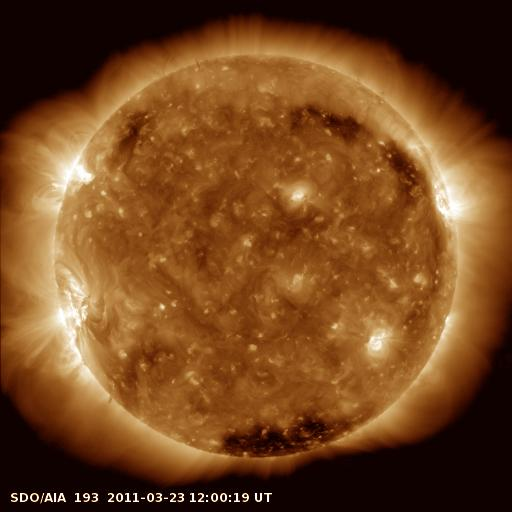coronal_hole: (217, 409, 360, 464), (300, 98, 368, 142), (383, 136, 429, 187), (112, 113, 153, 160)
